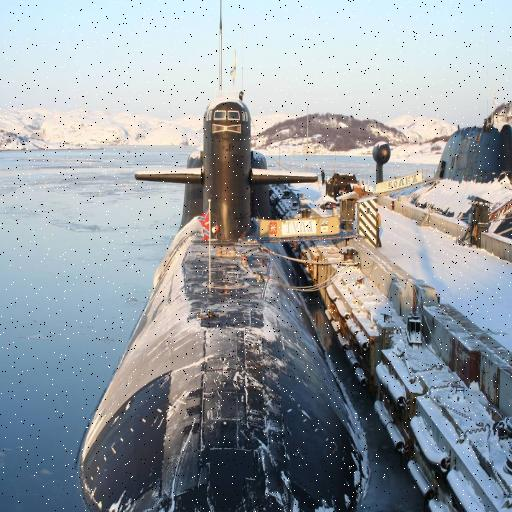submarine: (73, 1, 371, 512)
